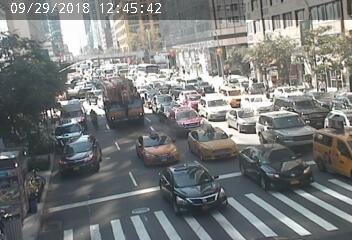car: (101, 83, 143, 127), (171, 167, 218, 203), (250, 147, 292, 180), (65, 141, 105, 172), (189, 126, 227, 156), (139, 133, 173, 156), (263, 111, 298, 133), (148, 92, 181, 115), (54, 120, 89, 141), (315, 129, 337, 159), (175, 105, 204, 127), (64, 104, 92, 125), (231, 105, 254, 126), (183, 94, 206, 113), (205, 97, 224, 114), (296, 99, 317, 113), (249, 93, 268, 106), (334, 114, 352, 127), (179, 74, 196, 84), (83, 84, 100, 94), (222, 85, 236, 96), (155, 80, 168, 90), (186, 89, 197, 98), (198, 79, 210, 87)
